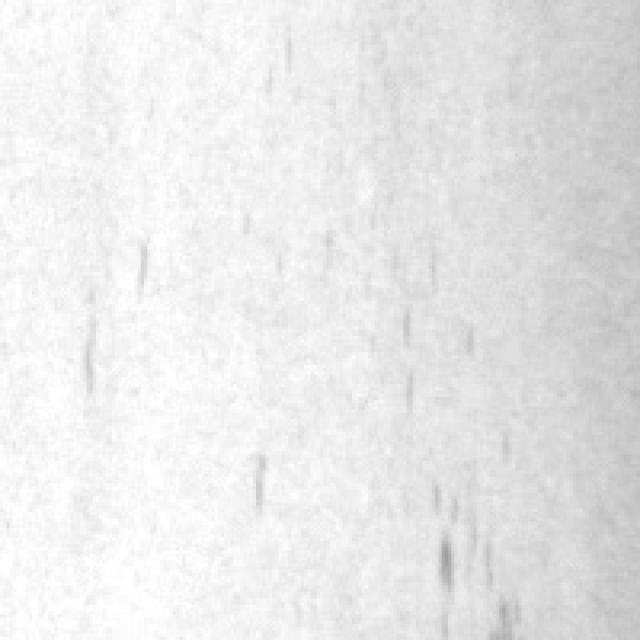inclusion: (416, 464, 525, 634)
